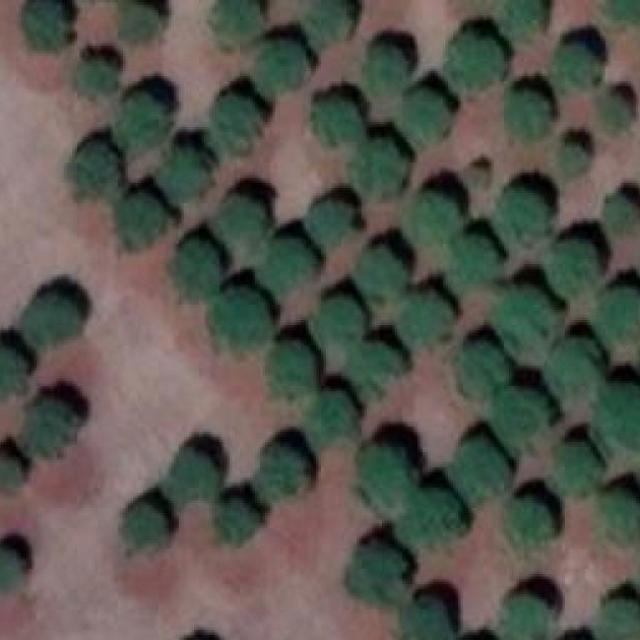Tree: (448, 442, 509, 506), (494, 288, 554, 352), (211, 284, 267, 348), (445, 32, 501, 92), (397, 490, 458, 544), (346, 344, 400, 404), (593, 383, 640, 451), (21, 294, 80, 348), (347, 546, 402, 602), (496, 386, 546, 447), (358, 447, 409, 506), (118, 94, 166, 156), (544, 340, 598, 394), (259, 238, 313, 292), (255, 40, 306, 96), (27, 399, 78, 455), (114, 193, 166, 247), (69, 145, 120, 199), (211, 96, 260, 152), (546, 242, 596, 296), (174, 240, 219, 300), (356, 140, 406, 194), (448, 236, 494, 294), (397, 292, 446, 346), (214, 196, 265, 247), (354, 247, 404, 298), (306, 391, 351, 447), (409, 193, 458, 244), (257, 447, 308, 496), (496, 191, 544, 242), (595, 288, 640, 342), (501, 594, 552, 640), (402, 91, 448, 142), (399, 597, 453, 640), (270, 344, 316, 394), (552, 442, 597, 493), (310, 300, 360, 345), (506, 498, 552, 546), (25, 0, 69, 49), (305, 0, 348, 49), (161, 147, 204, 196), (458, 346, 504, 391), (168, 455, 218, 496), (216, 0, 260, 46), (308, 201, 351, 247), (315, 100, 359, 143), (595, 599, 640, 640), (557, 44, 597, 87), (602, 493, 640, 538), (509, 92, 548, 135), (125, 506, 166, 546), (504, 0, 542, 41), (120, 2, 158, 41), (369, 46, 404, 86), (214, 503, 253, 538), (602, 196, 638, 232), (77, 61, 116, 94), (0, 350, 27, 396), (0, 548, 20, 594), (600, 96, 631, 125), (560, 145, 585, 179), (606, 0, 640, 25), (0, 455, 22, 485)
